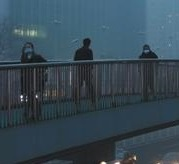person: (16, 41, 51, 125), (71, 37, 99, 107), (137, 43, 161, 103)
